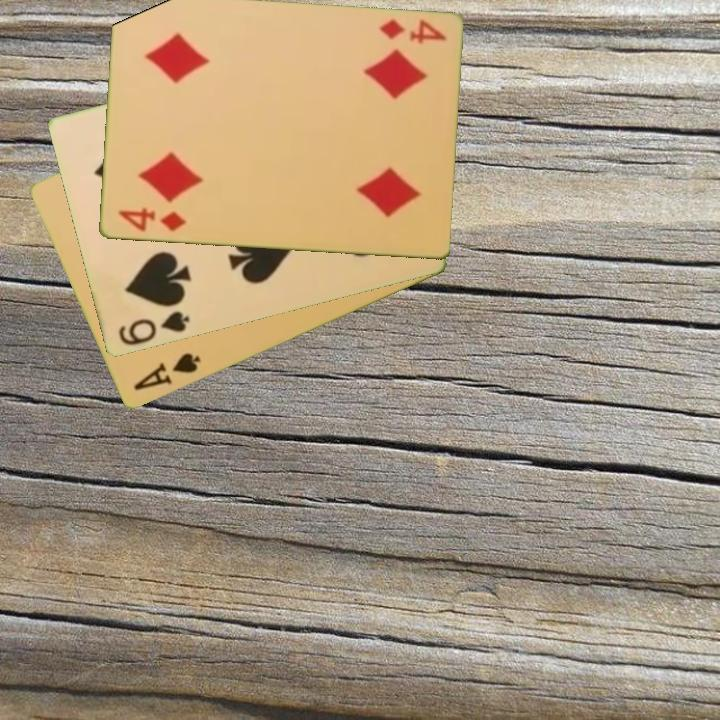4d: (375, 16, 449, 48), (114, 205, 189, 235)
6s: (114, 308, 192, 349)
As: (129, 349, 204, 394)
